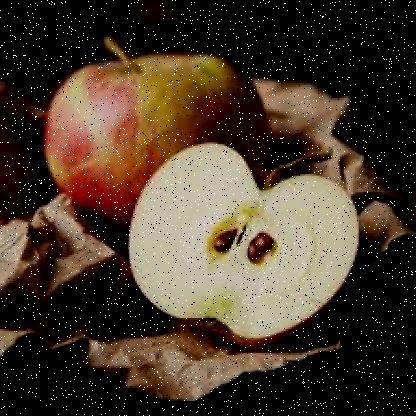apple: (46, 52, 272, 218)
damaged_apple: (126, 140, 368, 350)
